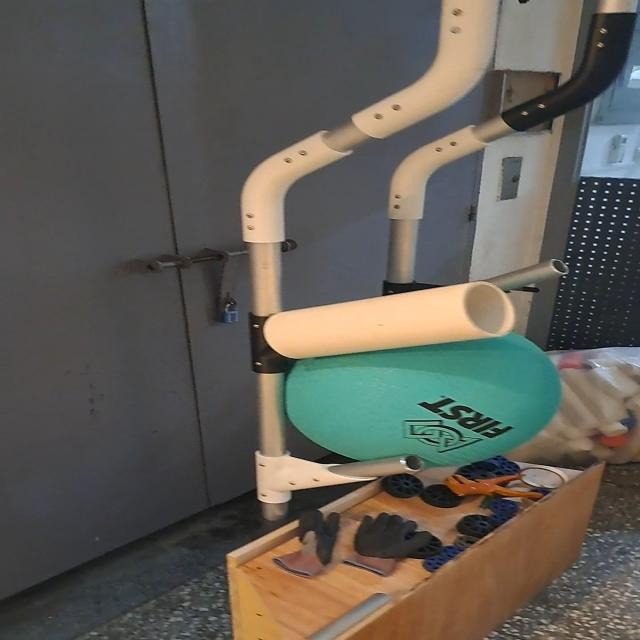ALGAE: (287, 326, 565, 475)
CORAL: (262, 278, 524, 359)
